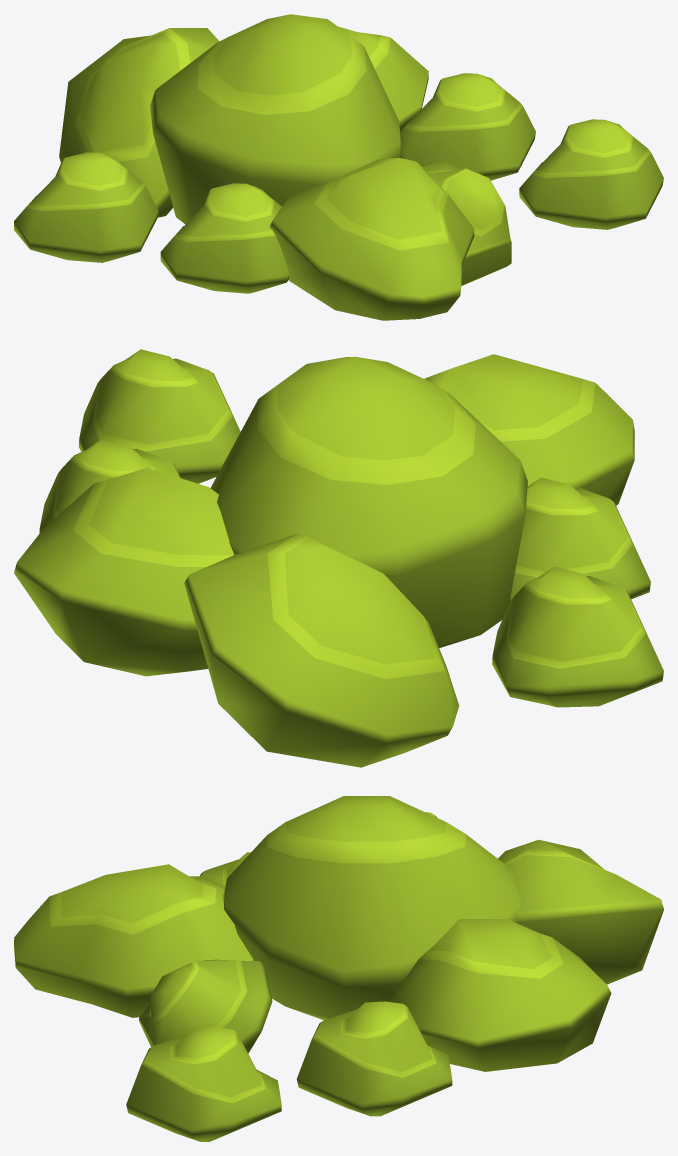
The model's file is magic_ore_pile.fbx.
3 renders of one model, top to bottom at view 1: azimuth 30°, elevation 25°; view 2: azimuth 150°, elevation 25°; view 3: azimuth 270°, elevation 25°, orthographic. The views are drawn at different scales.
Parts seen in each view (by area): view 1: magic_ore_pile; view 2: magic_ore_pile; view 3: magic_ore_pile.
Boxes of the visible parts, bbox=[...] form: magic_ore_pile: bbox=[14, 14, 663, 320]; magic_ore_pile: bbox=[14, 349, 663, 767]; magic_ore_pile: bbox=[14, 796, 663, 1141].
Size of the model in its own units: 142 by 54.59 by 137.
Materials: 1 (1 with a texture image).
